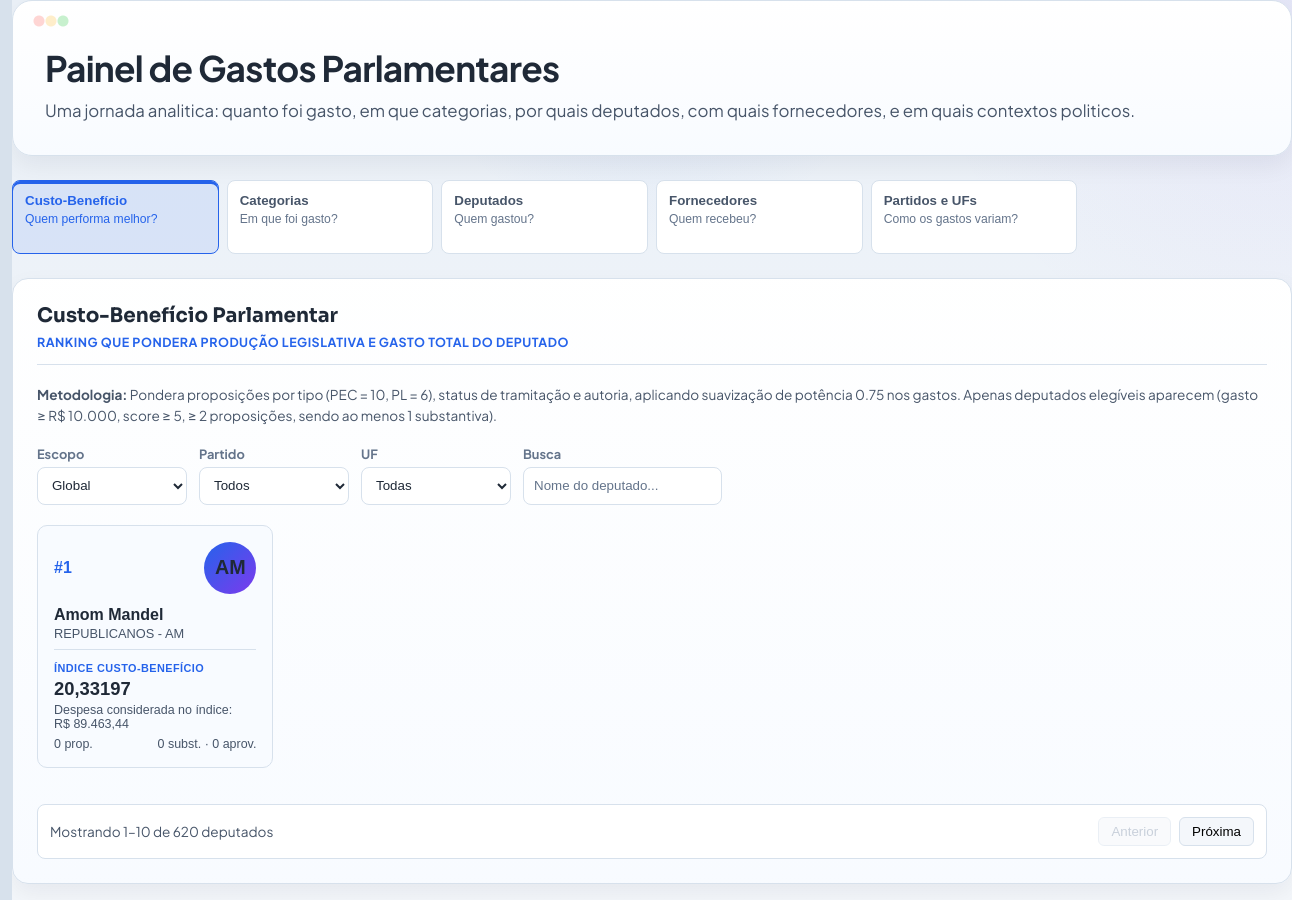
keeps the fornecedores tab global and does not pass deputy to the global endpoint
Click the button named "DeputadosQuem gastou" at (545, 217), box [441,180,648,254]
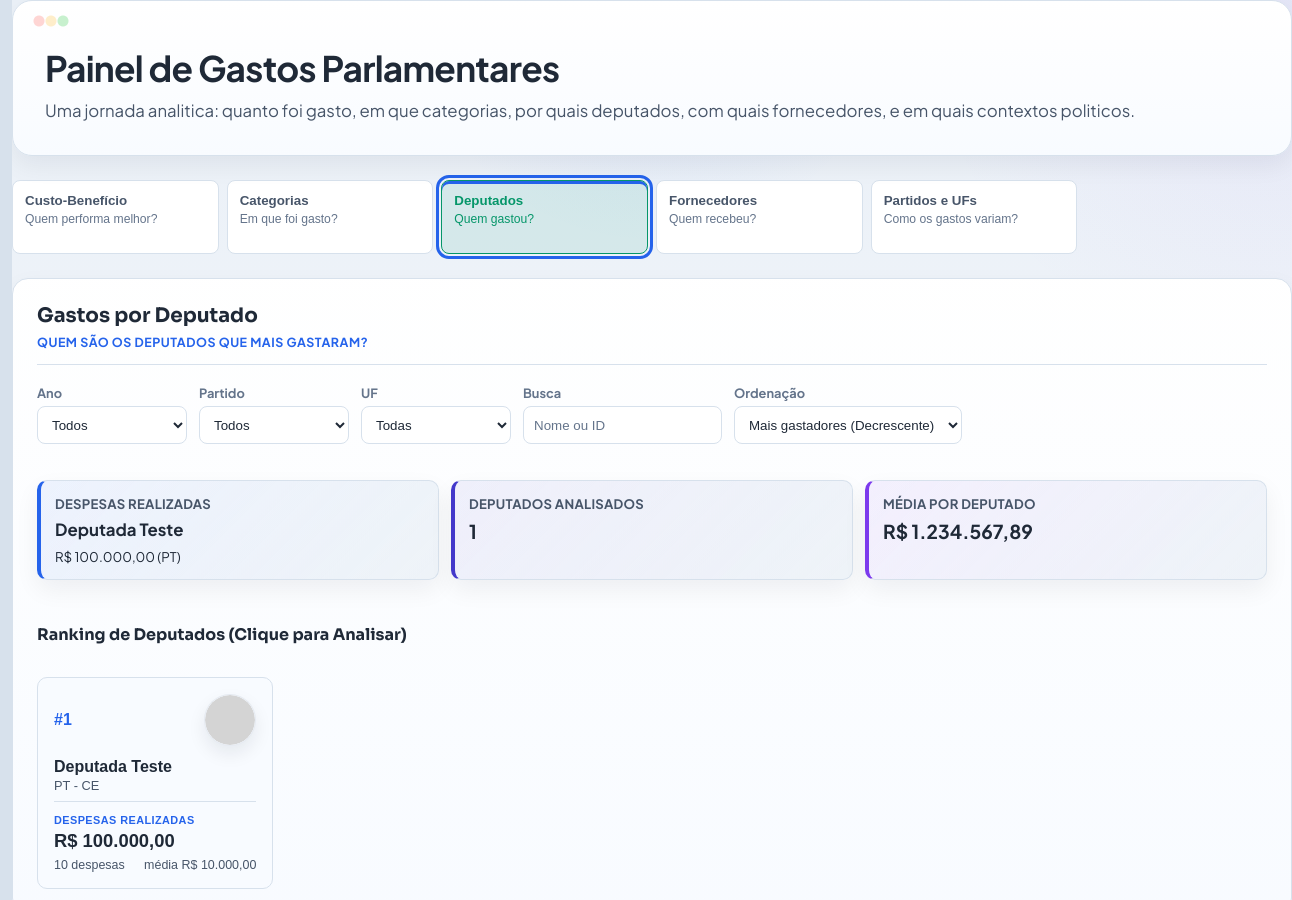
Expected: the heading "Ranking de Deputados (Clique para Analisar)" is shown, [37,624,407,645]
Click the button "Deputada Teste" at (155, 783), box [37,677,273,888]
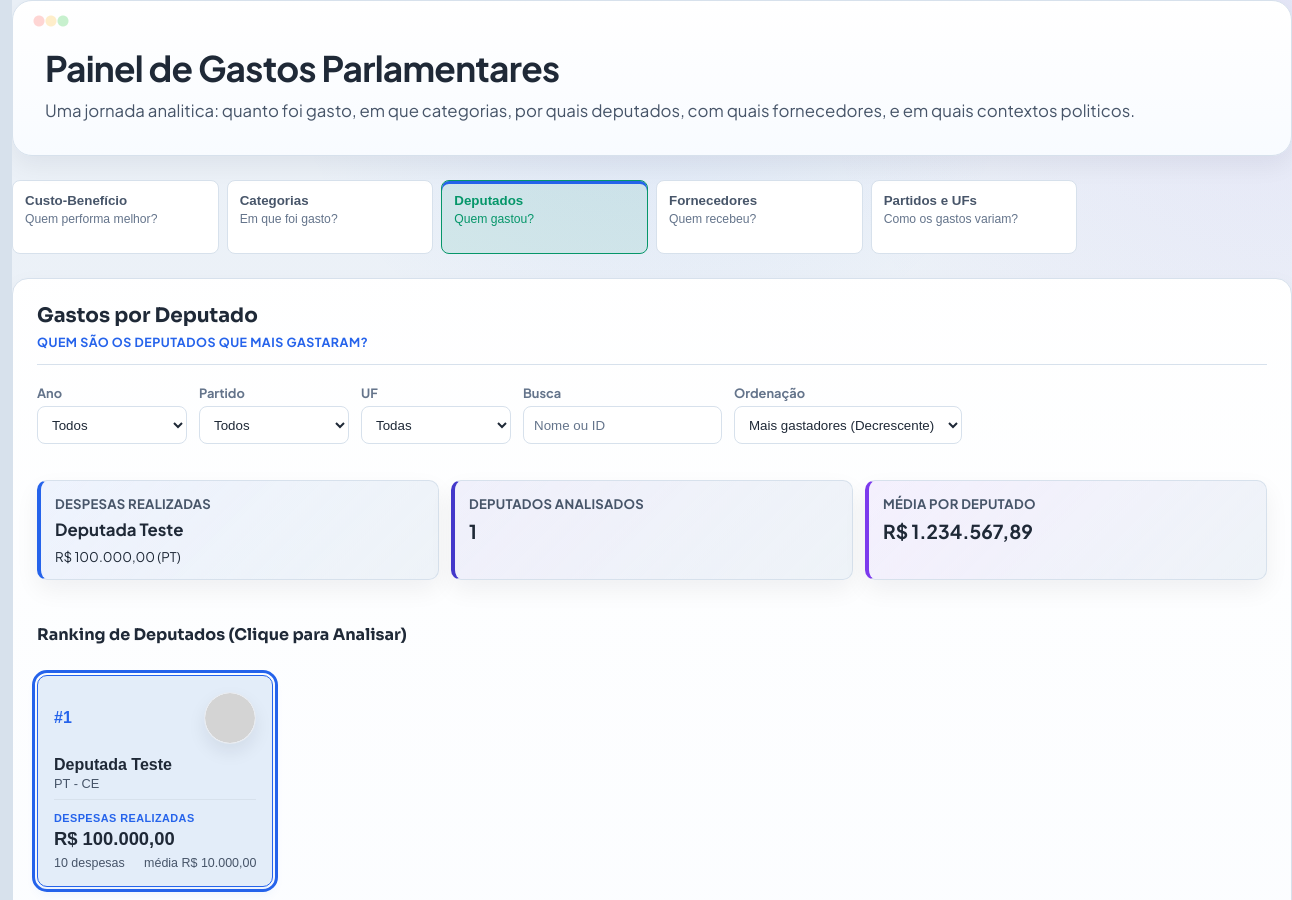
Click the button named "FornecedoresQuem recebeu" at (759, 217), box [656,180,863,254]
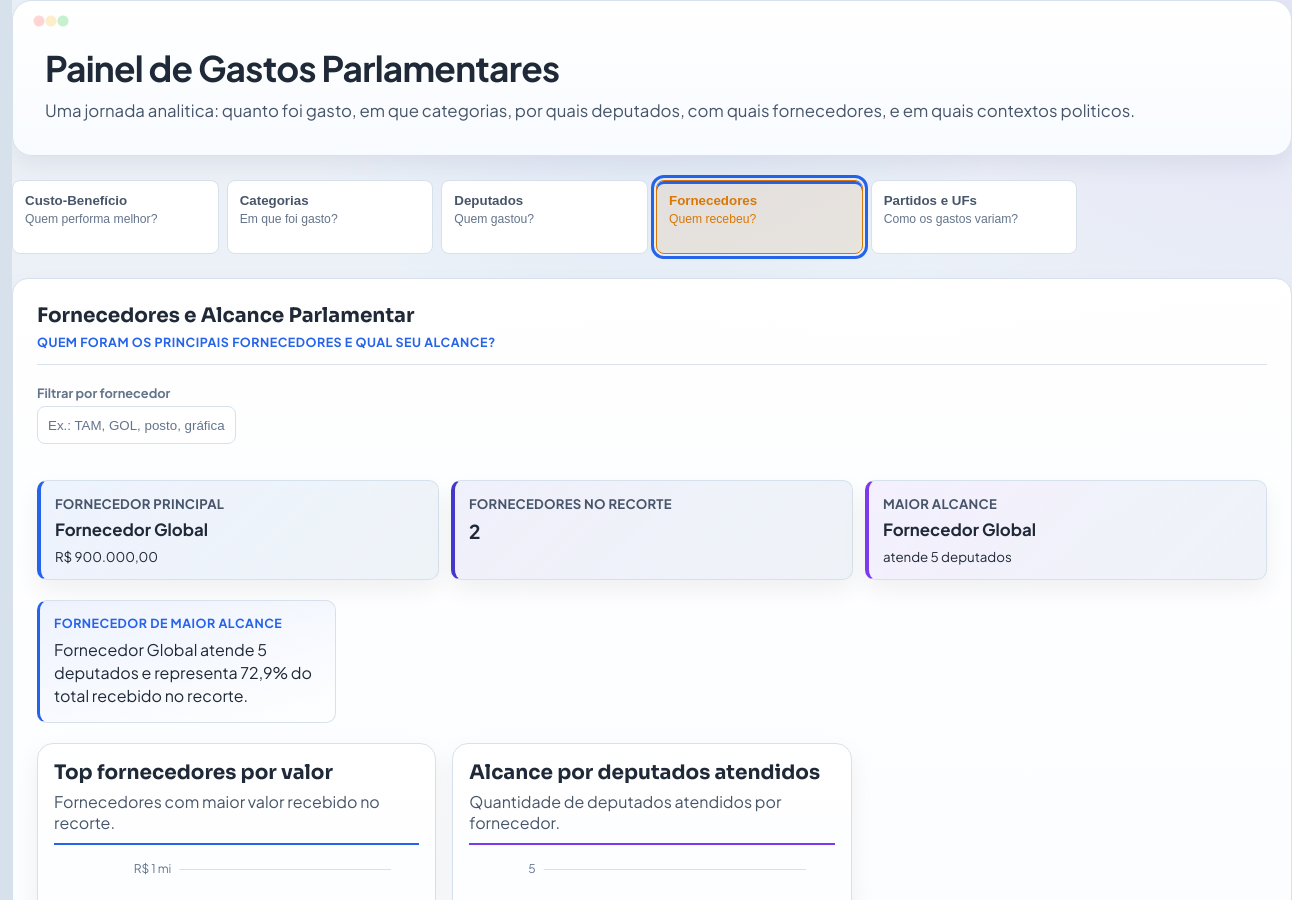
Expected: the text "Fornecedor Global" below "Fornecedor Principal" is shown, [55,519,208,540]
